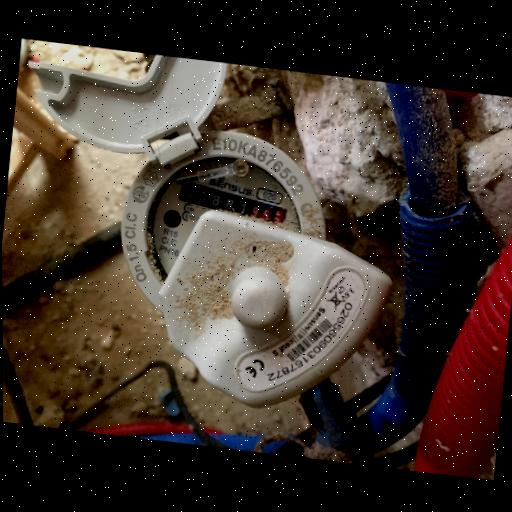0: (181, 184, 199, 203), (194, 188, 211, 206)
1: (234, 198, 254, 218)
2: (269, 204, 287, 228)
5: (258, 205, 275, 224)
8: (220, 195, 240, 214), (206, 191, 225, 210)
9: (248, 202, 263, 220)
border_water_meter_number: (178, 181, 290, 229)
